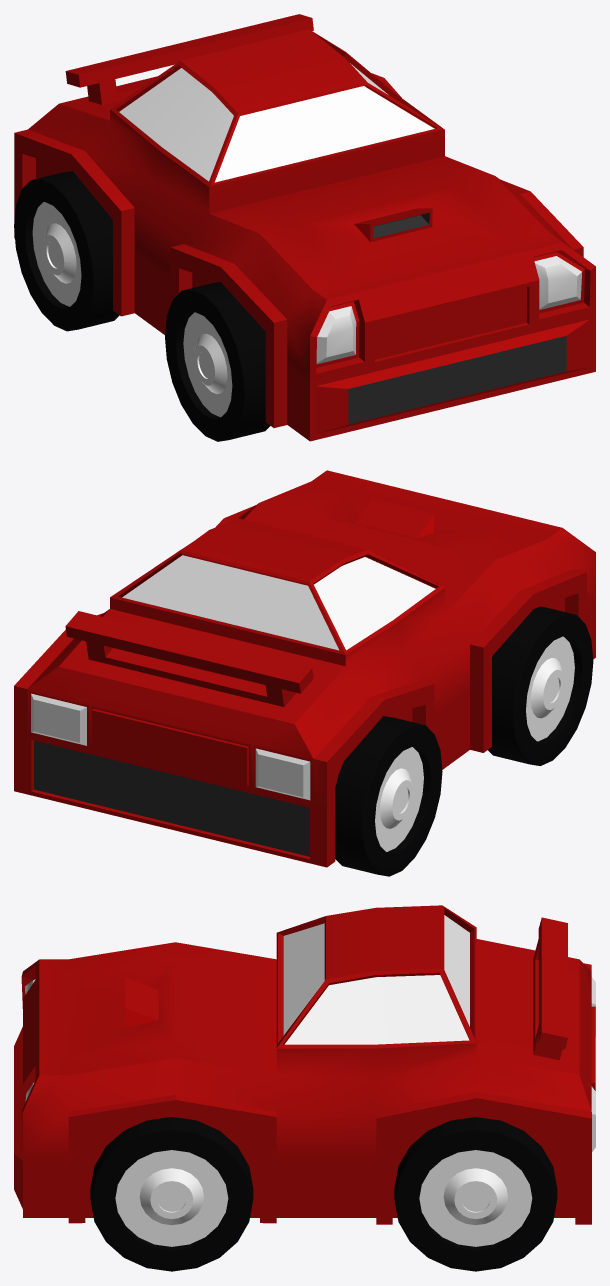
File: finalcar.fbx
3 renders of one model, top to bottom at view 1: azimuth 30°, elevation 25°; view 2: azimuth 150°, elevation 25°; view 3: azimuth 270°, elevation 25°, orthographic.
Visible parts, largest first — view 1: pCube2; view 2: pCube2; view 3: pCube2.
Part boxes in pixels (x1,y1,x2,y2): pCube2: (14, 14, 595, 441); pCube2: (14, 470, 595, 876); pCube2: (14, 905, 595, 1271).
Bounding box in the file's own units: 8.2 × 5.72 × 11.93.
